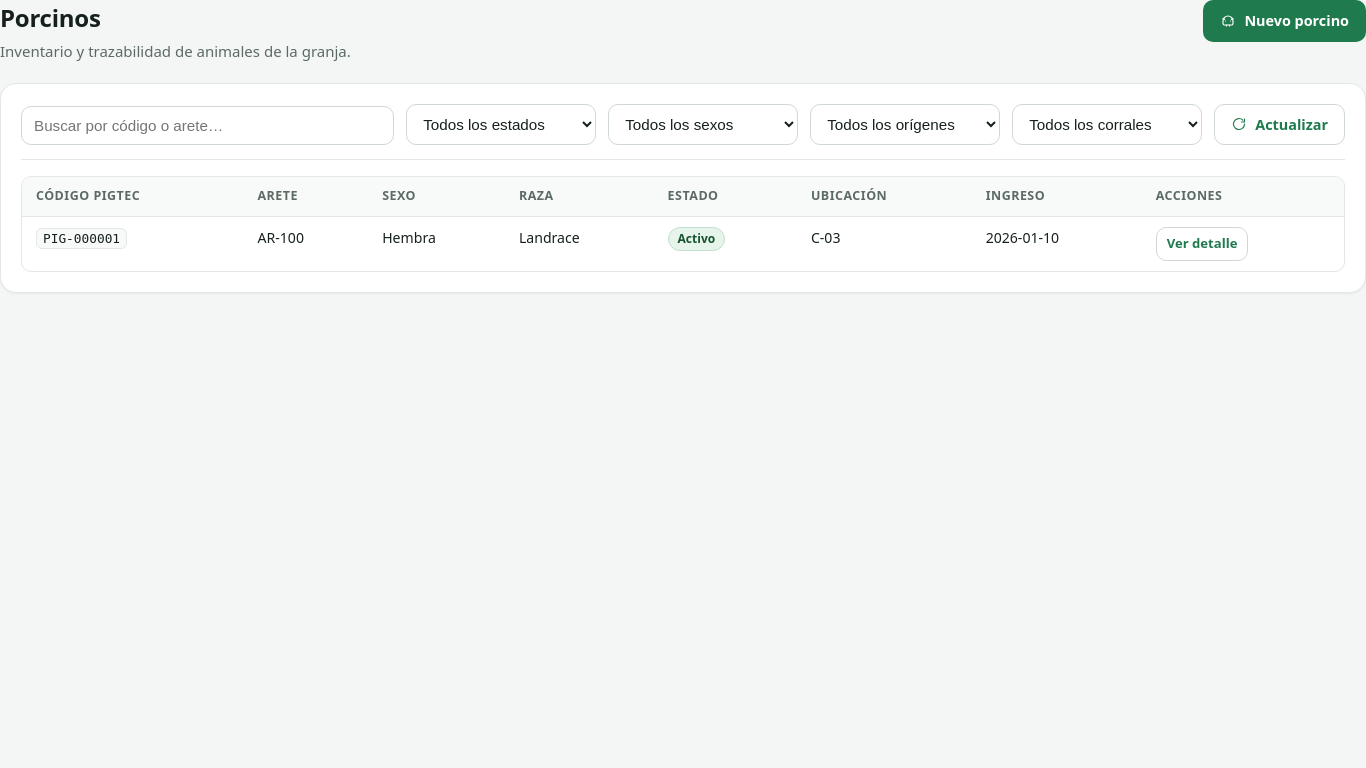
Test: AnimalsPage: alta de porcinos › avisa (sin bloquear) cuando la capacidad está completa o superada
Click the button "Nuevo porcino" at (1285, 21), box x1=1203 y1=0 x2=1365 y2=42
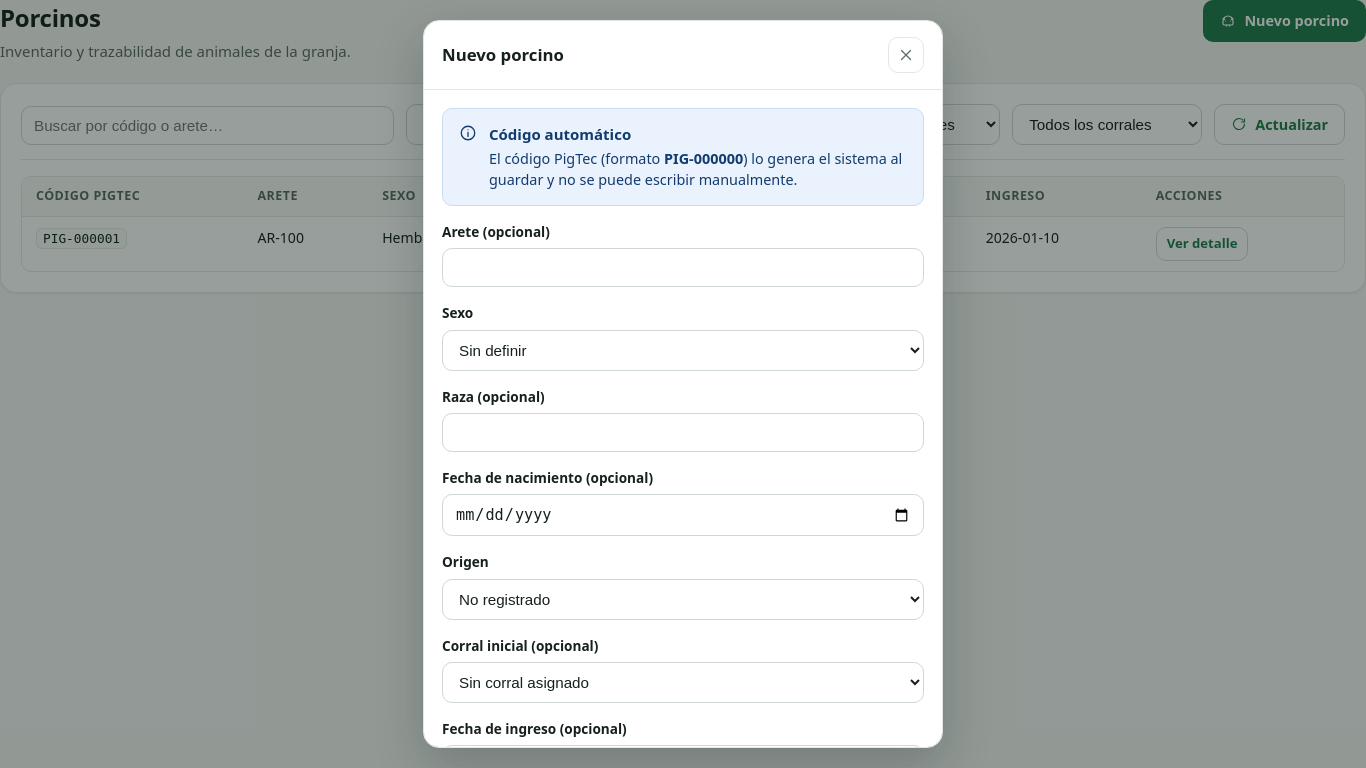
Select "C-03" in the dropdown labelled "Corral inicial (opcional)" at (683, 683), box x1=442 y1=662 x2=924 y2=703
(page scrolled)
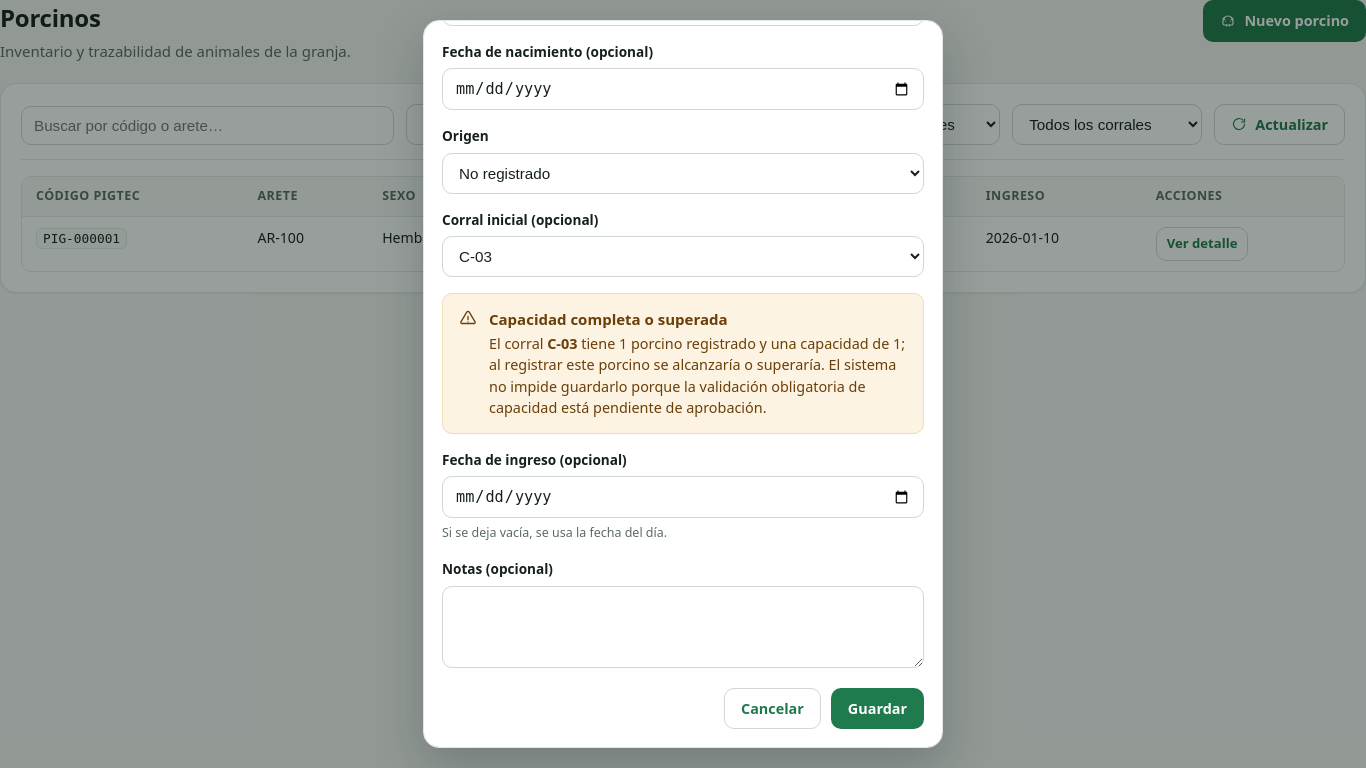
Check: the text "Capacidad completa o superada" is shown, box x1=489 y1=309 x2=728 y2=329
Check: the button "Guardar" is enabled, box x1=831 y1=688 x2=924 y2=729
